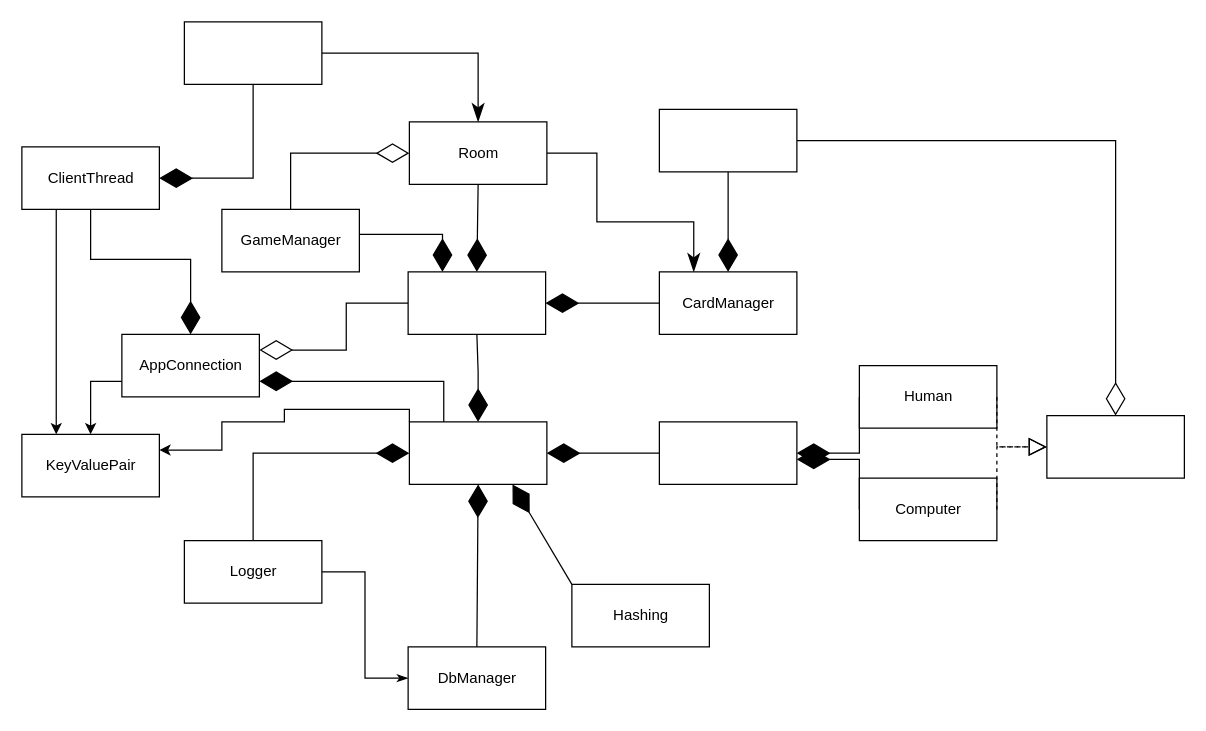
The diagram is 1206 pixels wide and 731 high, and some of its shapes have lost their labels. Here are the shapes that lost their labels. From the top down, the box of each, then its label:
(183, 21, 322, 84): Client
(658, 108, 797, 172): Card
(407, 271, 546, 334): RoomManager
(408, 421, 547, 484): EngineManager
(658, 421, 797, 484): PlayerManager
(1046, 414, 1184, 478): «interface» Player
